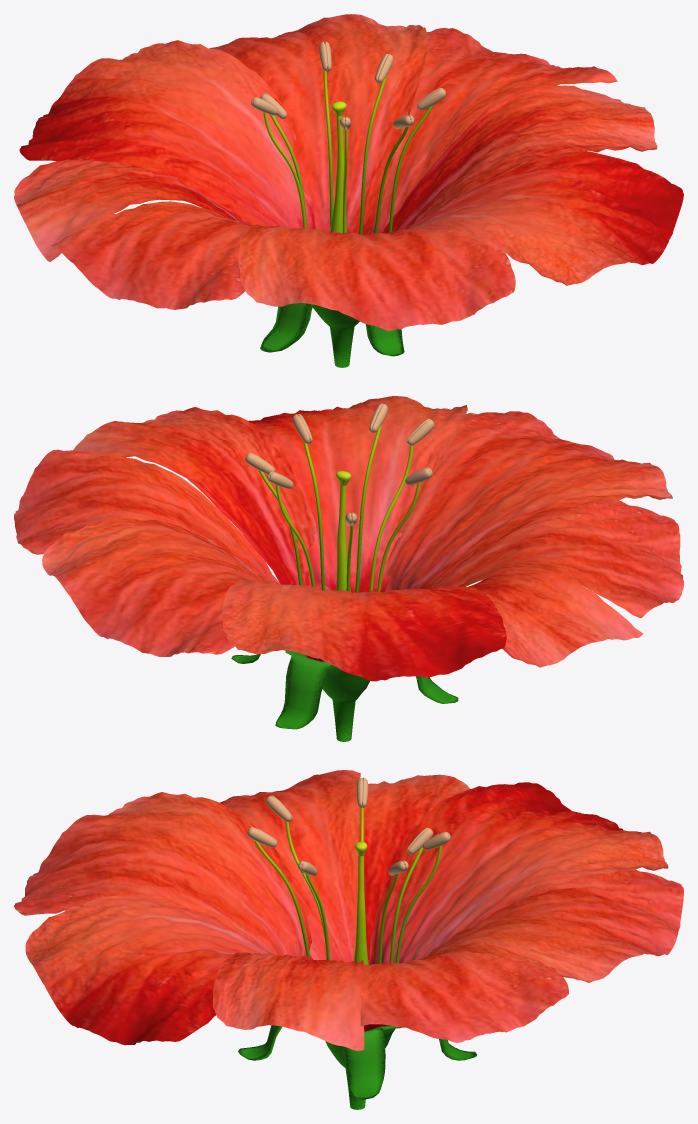
File: flower.glb
3 views of the same model, one above another, from view 1: azimuth 30°, elevation 25°; view 2: azimuth 150°, elevation 25°; view 3: azimuth 270°, elevation 25° (orthographic). The views are drawn at different scales.
Visible parts, largest first — view 1: Petals; view 2: Petals; view 3: Petals.
Boxes of the visible parts, x1=… form: Petals: x1=14, y1=14, x2=683, y2=367; Petals: x1=14, y1=396, x2=683, y2=741; Petals: x1=14, y1=770, x2=683, y2=1109.
Bounding box in the file's own units: 0.2071 × 0.0997 × 0.2079.
5 materials, 4 textured.
